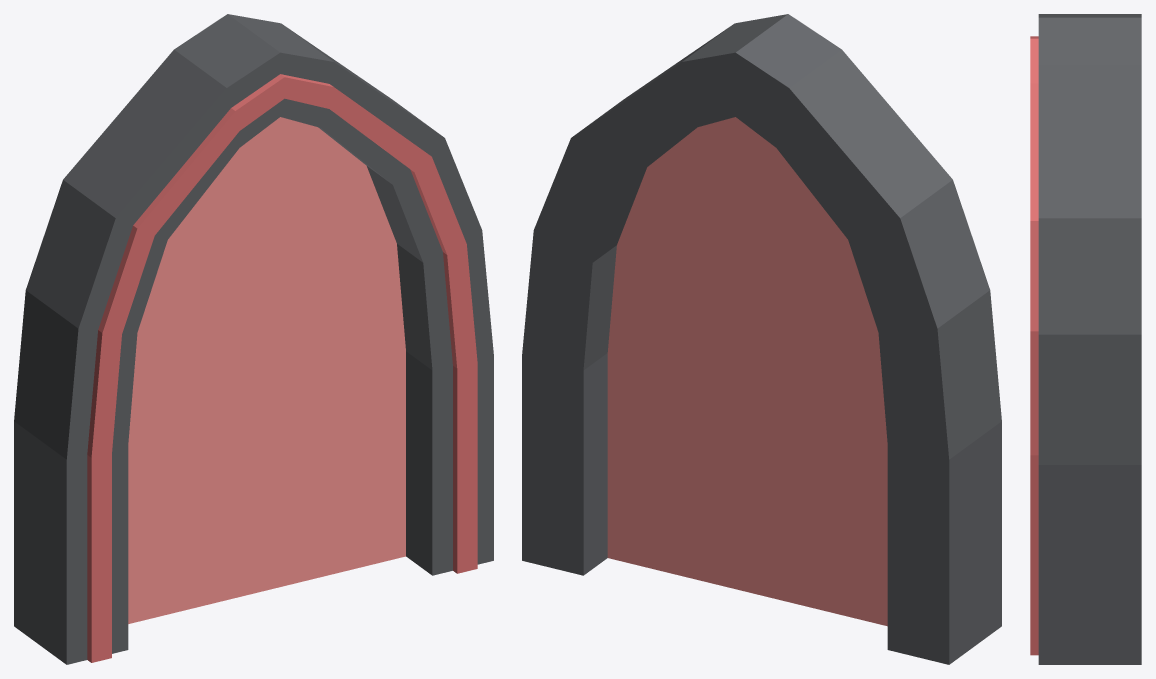
File: Portal.glb
The picture shows the model from 3 angles, left to right: view 1: azimuth 30°, elevation 25°; view 2: azimuth 150°, elevation 25°; view 3: azimuth 270°, elevation 25°; orthographic projection. The views are drawn at different scales.
Parts seen in each view (by area): view 1: PortalBorder, Portal; view 2: PortalBorder, Portal; view 3: PortalBorder.
Part boxes in pixels (x1=…): PortalBorder: x1=14, y1=14, x2=493, y2=664; Portal: x1=128, y1=117, x2=405, y2=623; PortalBorder: x1=522, y1=14, x2=1001, y2=664; Portal: x1=607, y1=117, x2=887, y2=626; PortalBorder: x1=1030, y1=14, x2=1141, y2=664.
Bounding box in the file's own units: 9.35 × 11.72 × 2.16.
